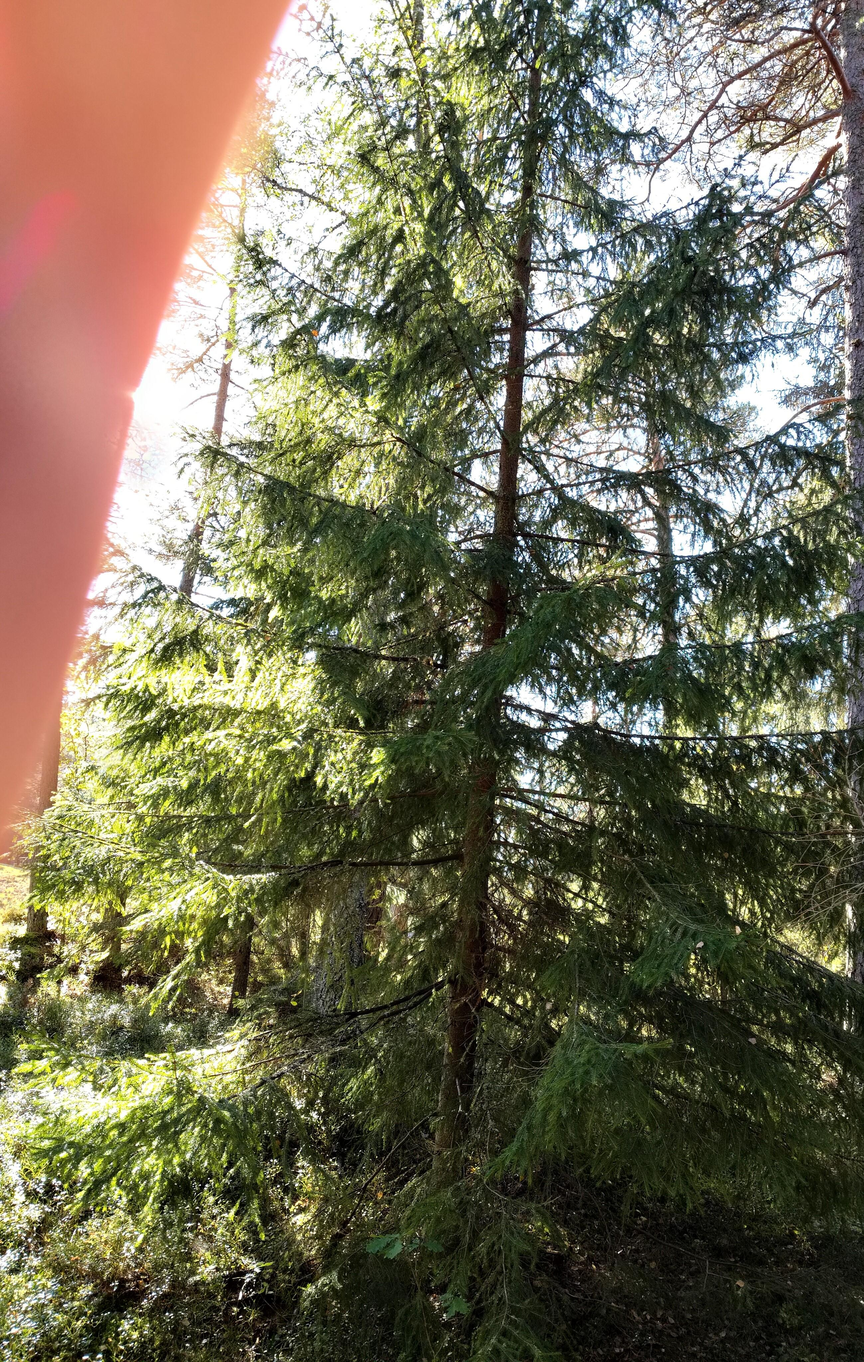Spruce: (297, 4, 657, 1215)
